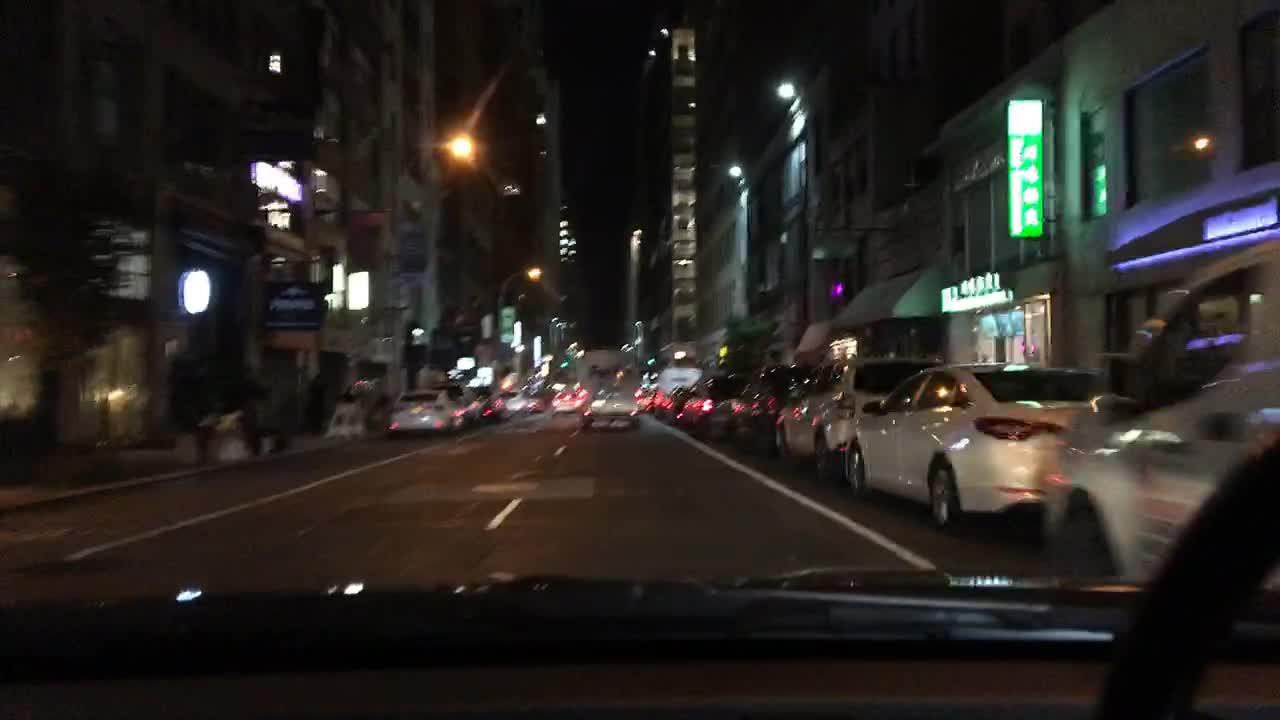car: (1043, 236, 1279, 592), (840, 361, 1103, 531), (771, 354, 945, 482), (724, 358, 820, 461), (573, 349, 644, 430), (678, 373, 749, 428), (386, 388, 465, 437), (646, 364, 698, 415), (428, 380, 482, 423), (660, 378, 698, 423), (469, 383, 509, 422), (548, 386, 587, 413), (638, 383, 661, 413), (499, 388, 523, 413), (523, 395, 543, 413)
person: (222, 361, 273, 450), (303, 368, 329, 439)
